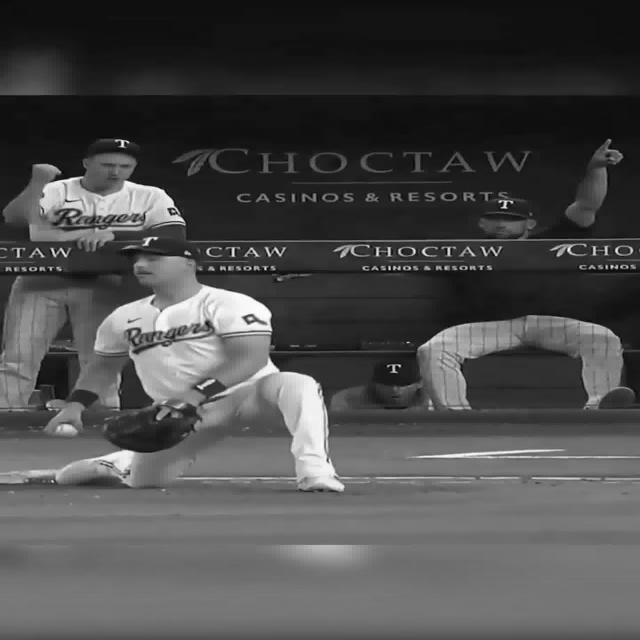base: (3, 472, 128, 490)
baseball: (53, 423, 78, 437)
baseball_glove: (100, 400, 202, 453)
shoe: (58, 451, 140, 481), (295, 474, 345, 492)
